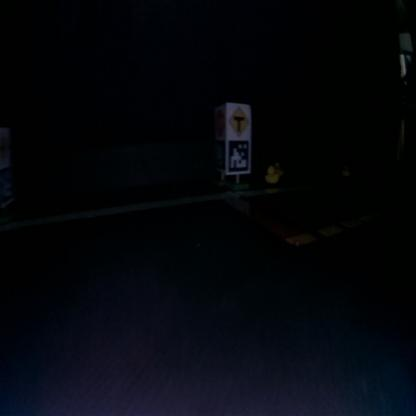Duckie: (264, 166, 277, 182)
Intersection sign: (226, 105, 249, 137)
QR code: (227, 140, 249, 170)
Stop sign: (214, 108, 225, 137)
